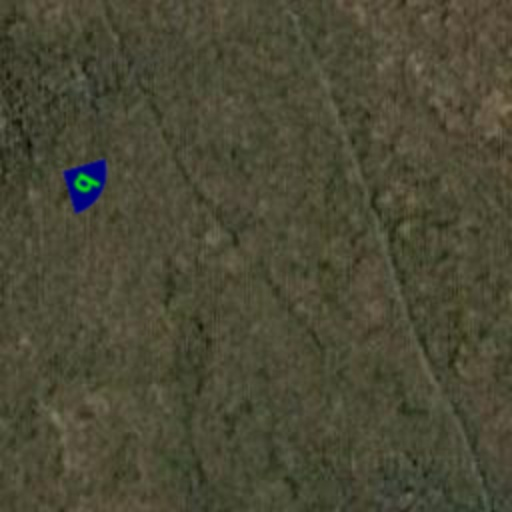quarter_circle: (44, 142, 128, 226)
